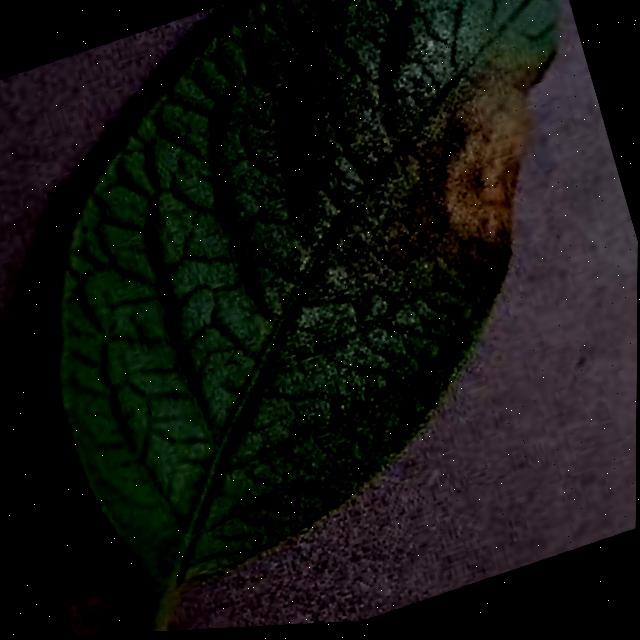Late_blight: (343, 26, 627, 334)
